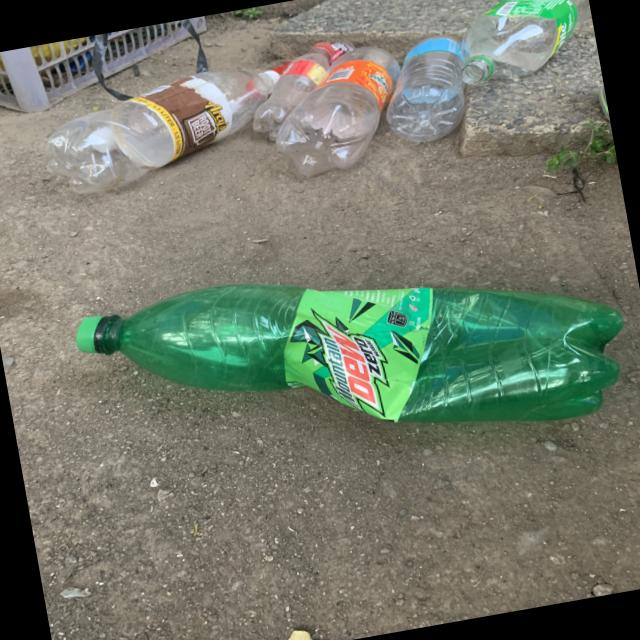Bottle: (76, 283, 623, 422)
